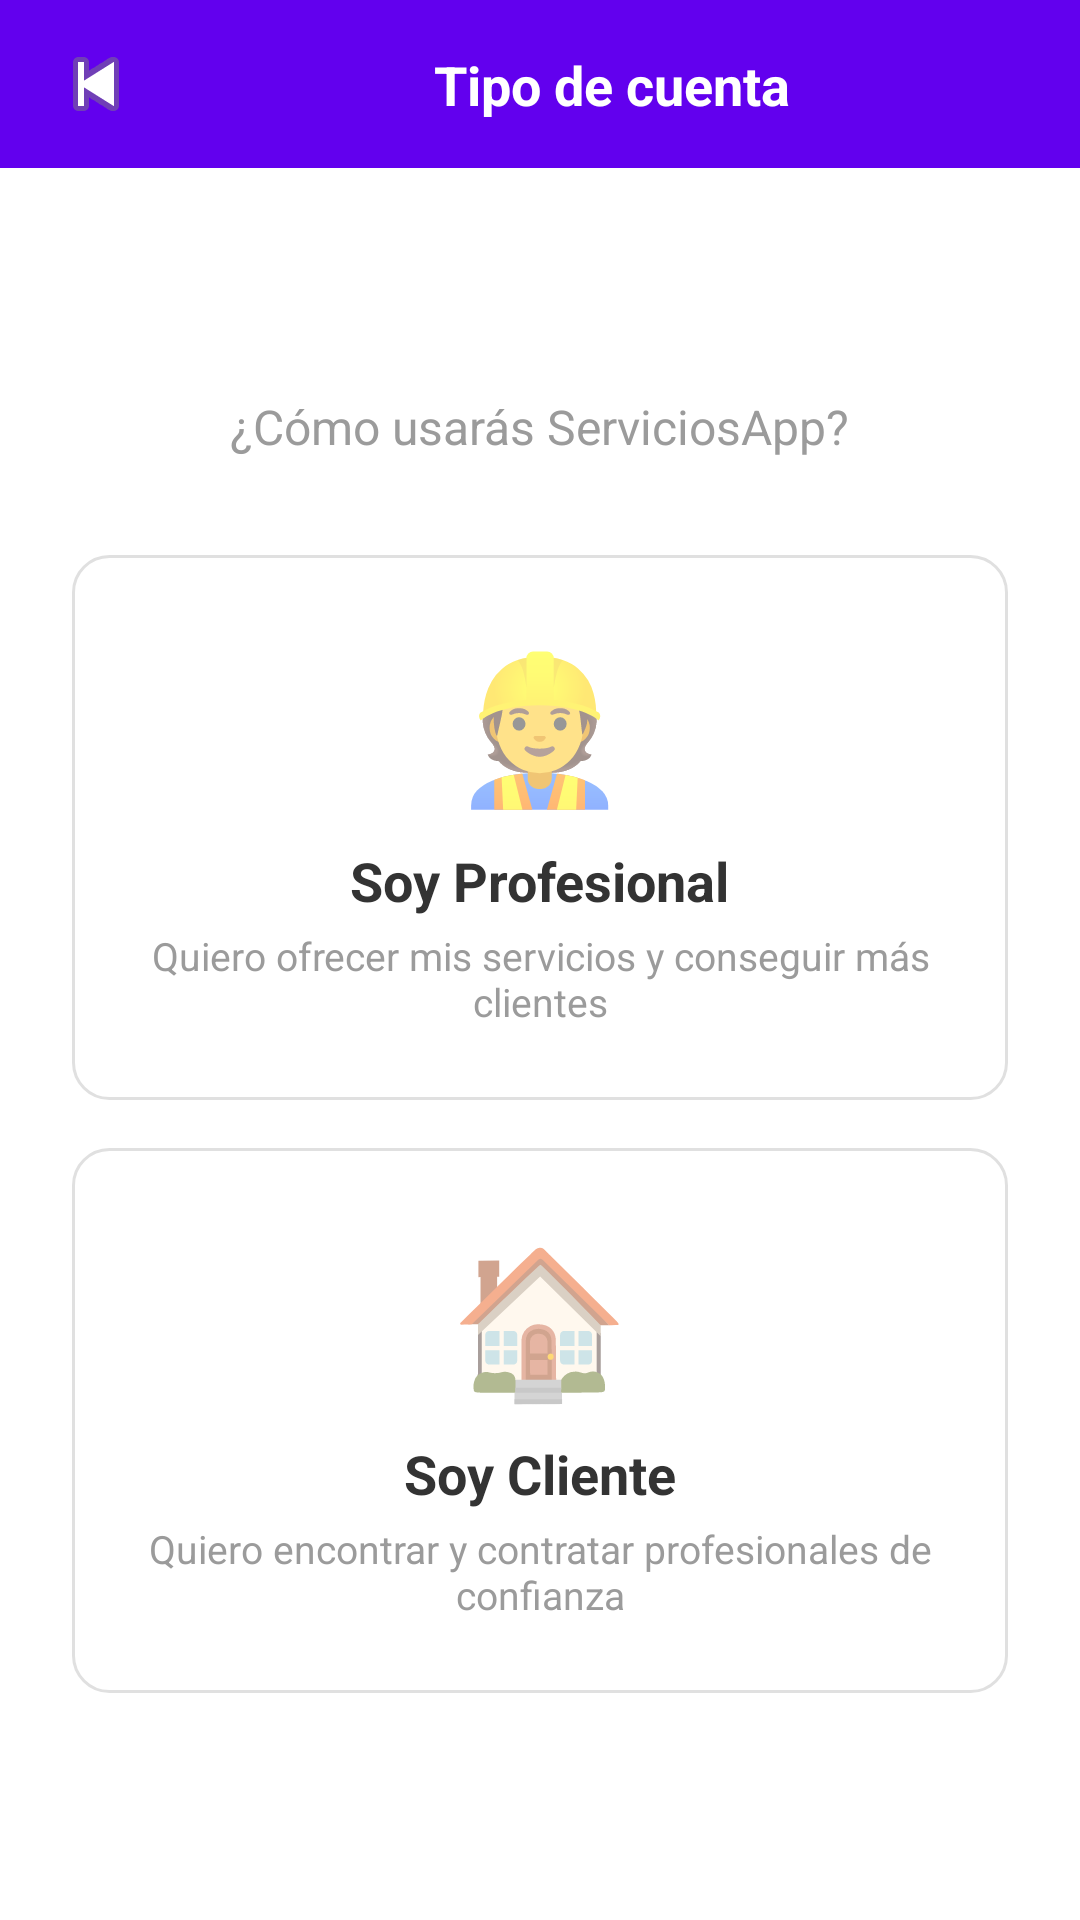

Screen size 1080 × 1920. Icon name, then its box in pixels as bbox(x1, y1, x2, y2):
previous: bbox(73, 57, 119, 111)
